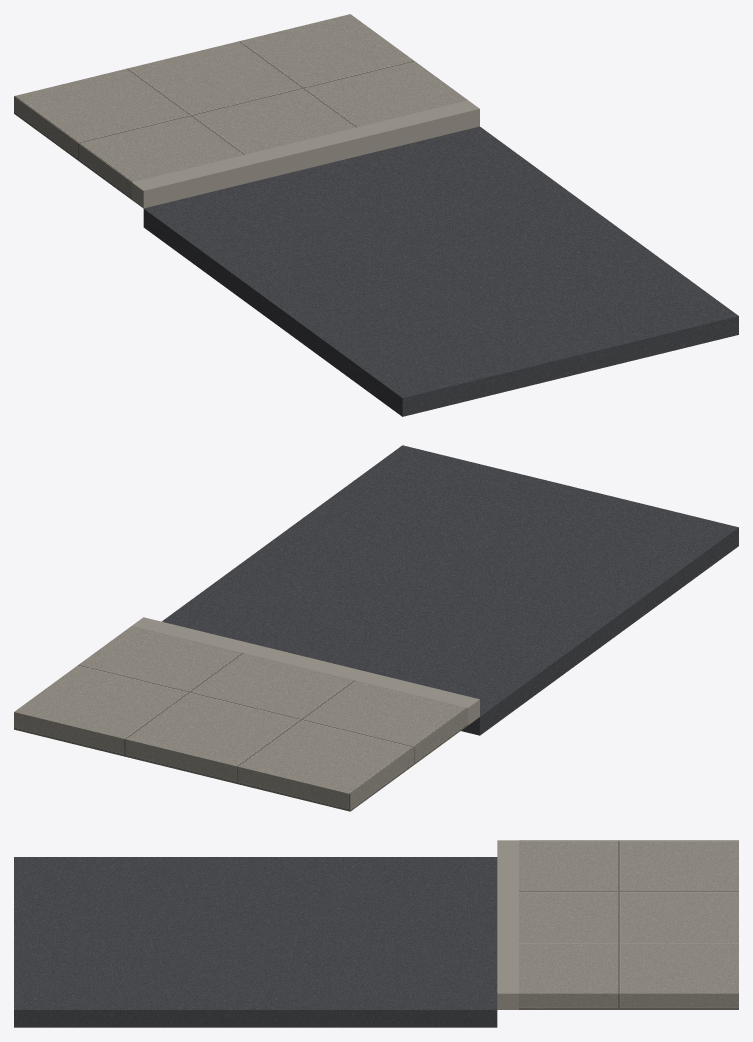
The model's file is MS_RD_07_DeadEnd_3m.glb.
3 views of the same model, one above another, from view 1: azimuth 30°, elevation 25°; view 2: azimuth 150°, elevation 25°; view 3: azimuth 270°, elevation 25° (orthographic). The views are drawn at different scales.
Parts seen in each view (by area): view 1: Asphalt.009, Concrete.002, End_Curb.002; view 2: Asphalt.009, Concrete.002, End_Curb.002; view 3: Asphalt.009, Concrete.002, End_Curb.002.
Boxes of the visible parts, x1,y1,x2,y2 form: Asphalt.009: (143, 126, 738, 416); Concrete.002: (14, 14, 467, 199); End_Curb.002: (132, 100, 479, 208); Asphalt.009: (162, 445, 738, 735); Concrete.002: (14, 626, 468, 811); End_Curb.002: (132, 617, 479, 724); Asphalt.009: (14, 857, 497, 1027); Concrete.002: (519, 840, 738, 1009); End_Curb.002: (497, 840, 518, 1009).
Size of the model in its own units: 3 by 0.31 by 6.
3 materials, 2 textured.
